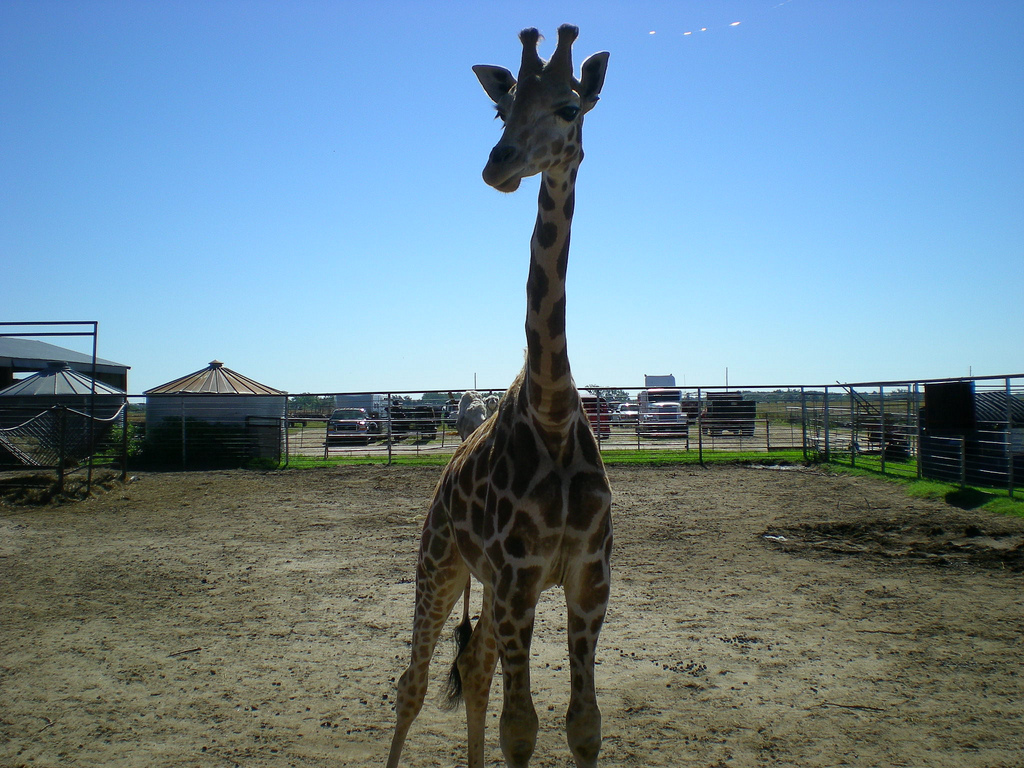giraffe: (424, 5, 676, 754)
